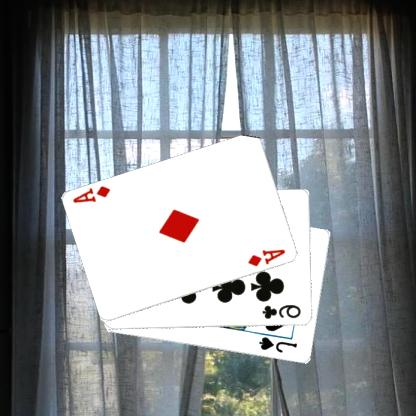9C: (261, 302, 304, 320)
AD: (248, 246, 288, 268), (73, 184, 114, 204)
JS: (258, 334, 300, 354)
